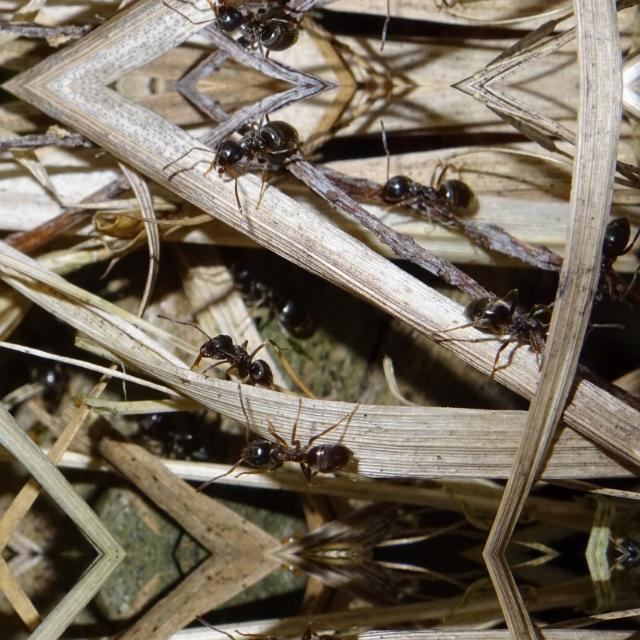Lasius: (228, 412, 380, 488), (468, 280, 592, 366), (182, 322, 314, 402), (184, 112, 314, 192), (568, 208, 640, 318), (184, 0, 314, 58), (356, 160, 488, 216), (228, 618, 380, 640)
